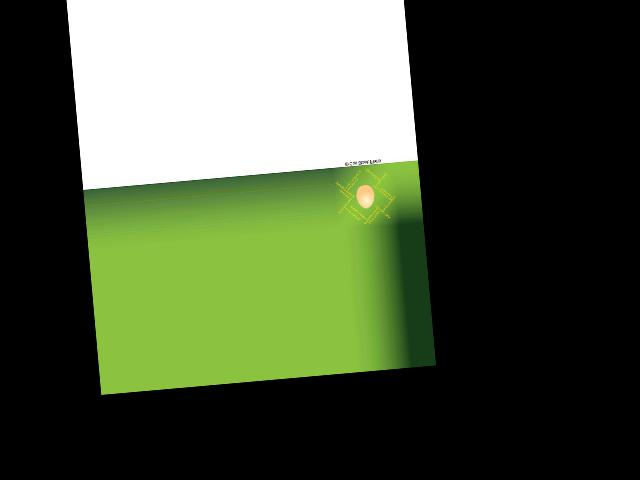egg: (355, 184, 375, 209)
